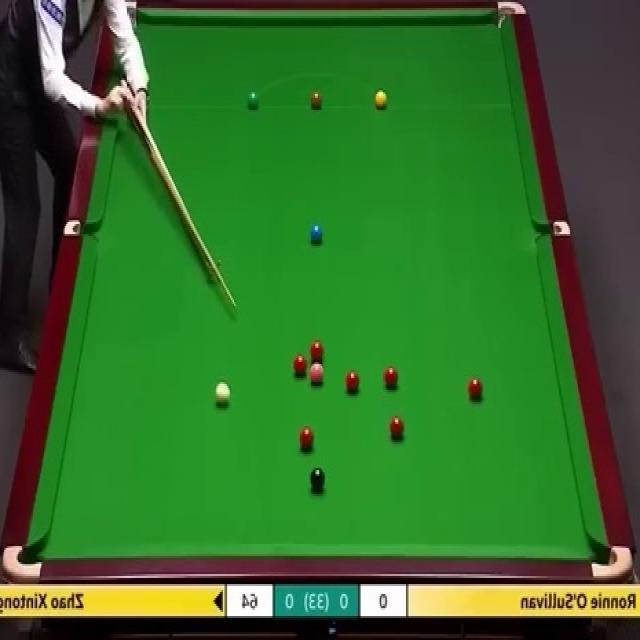black-ball: (309, 467, 325, 495)
blue-ball: (308, 223, 323, 244)
brown-ball: (310, 90, 323, 110)
green-ball: (246, 92, 258, 109)
pink-ball: (310, 362, 324, 384)
red-ball: (466, 375, 484, 402), (388, 416, 405, 441), (382, 368, 398, 392), (299, 428, 314, 452), (344, 372, 360, 394), (294, 355, 307, 378), (310, 340, 324, 359)
white-ball: (214, 381, 230, 406)
yellow-ball: (374, 90, 388, 111)
